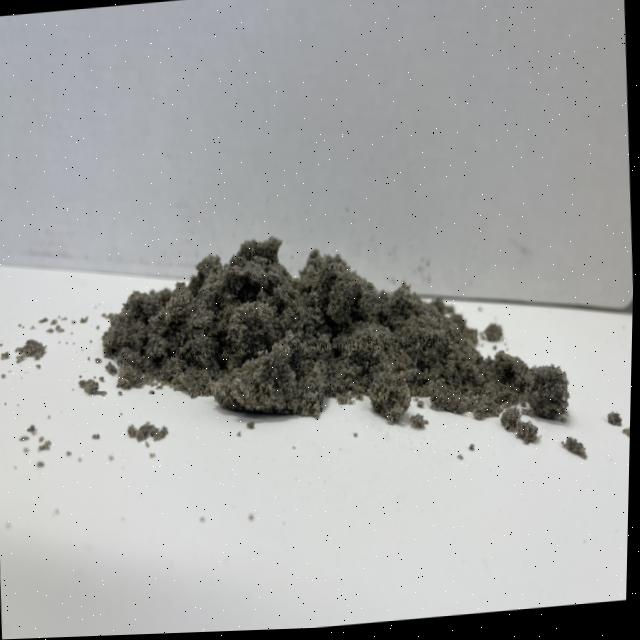sand: (106, 212, 548, 456)
